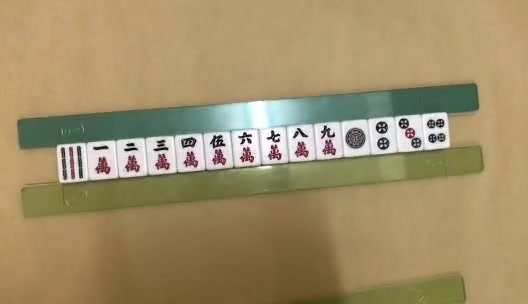1m: (91, 145, 112, 177)
1p: (346, 128, 367, 150)
2m: (123, 142, 141, 172)
2p: (375, 121, 390, 149)
3m: (151, 140, 170, 172)
3p: (399, 116, 422, 148)
4m: (180, 136, 199, 168)
4p: (428, 119, 446, 142)
5m: (209, 136, 227, 165)
6m: (237, 130, 254, 162)
7m: (269, 130, 282, 160)
8m: (292, 127, 309, 156)
9m: (319, 125, 337, 158)
9s: (57, 146, 83, 182)
